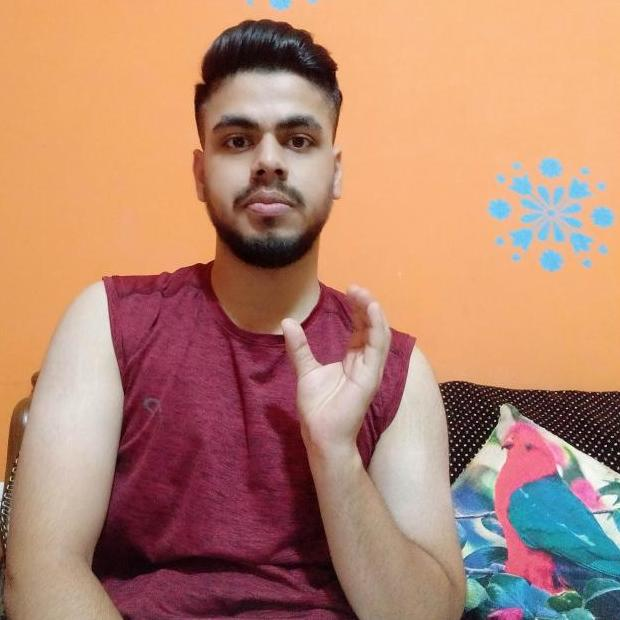T: (272, 280, 400, 450)
